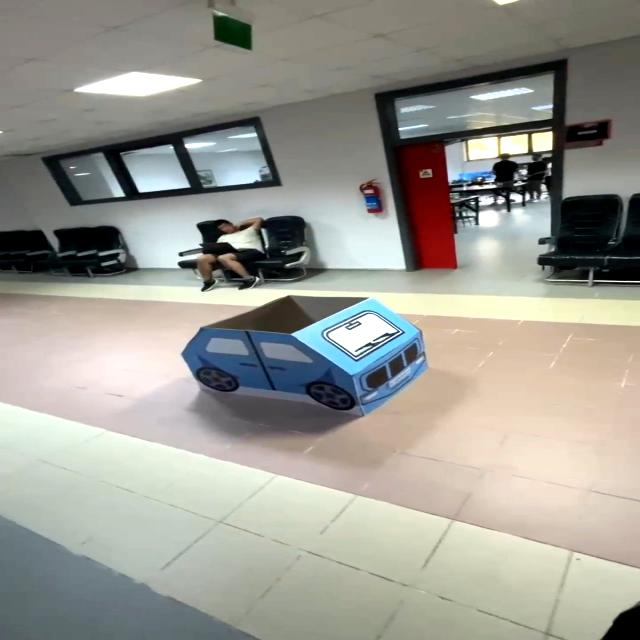blue_car: (157, 290, 461, 422)
